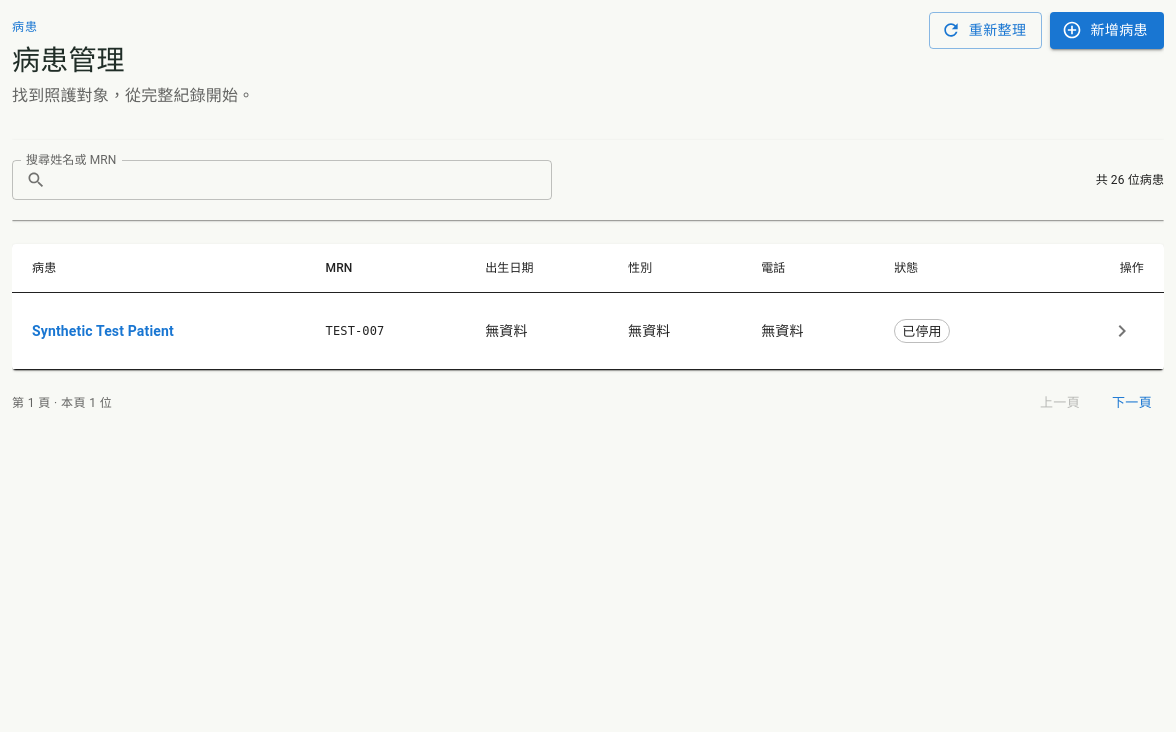
Test: uses backend count and enables pagination with accessible chart links
Check: the text "共 26 位病患" is shown, box 1096,172 -> 1164,190
Check: the text "已停用" is shown, box 902,324 -> 942,339
Click the button "下一頁" at (1132, 404), box 1100,388 -> 1164,419
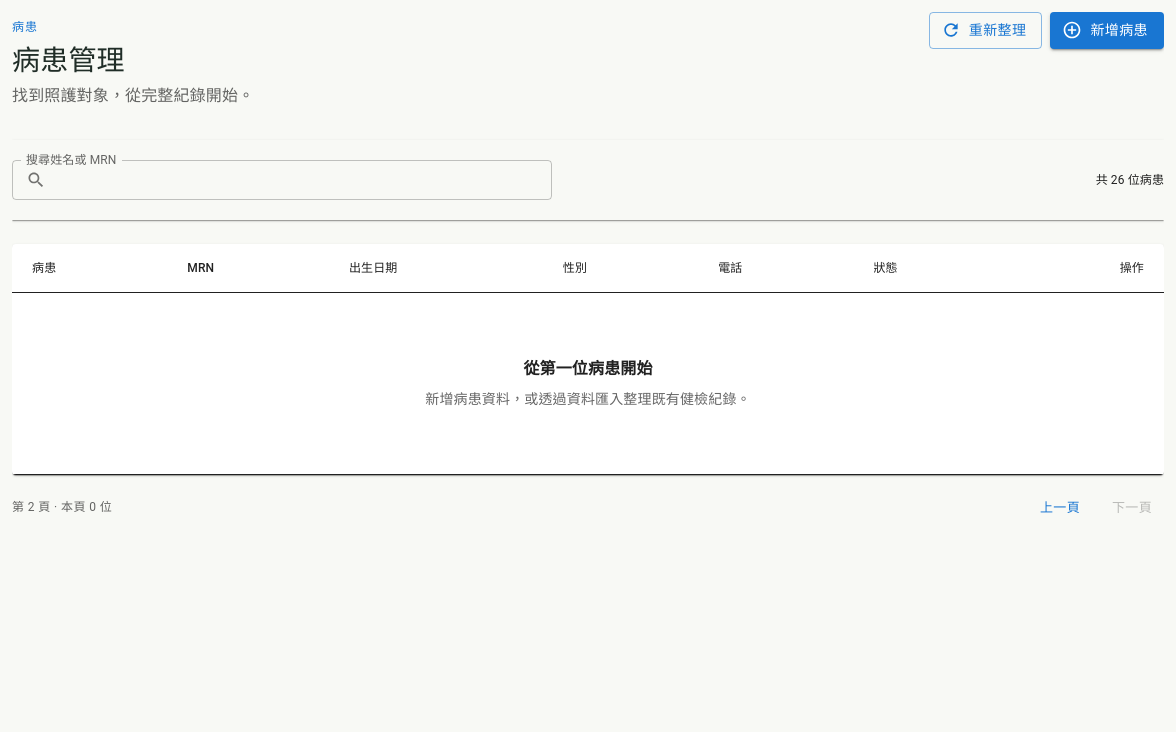
Check: the text "第 2 頁 · 本頁 0 位" is shown, box 12,498 -> 112,518
Check: the button "下一頁" is disabled, box 1100,492 -> 1164,523
